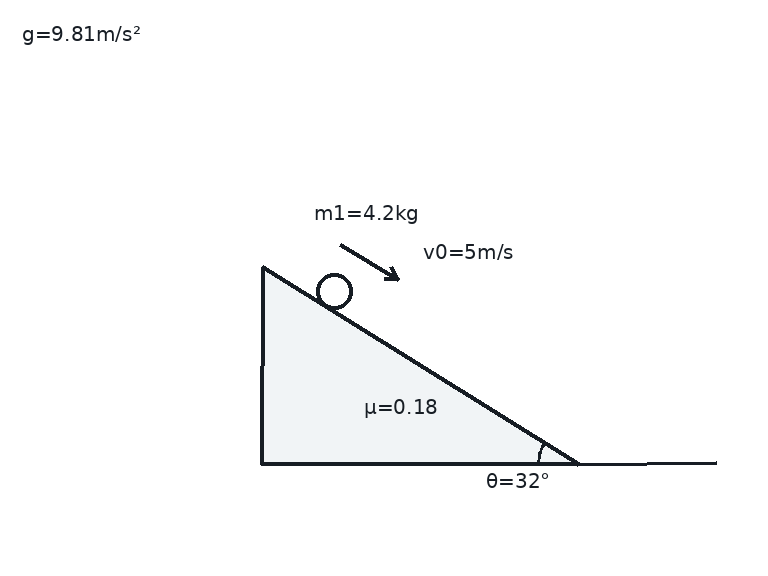ball: (314, 271, 354, 311)
ramp: (260, 264, 580, 466)
